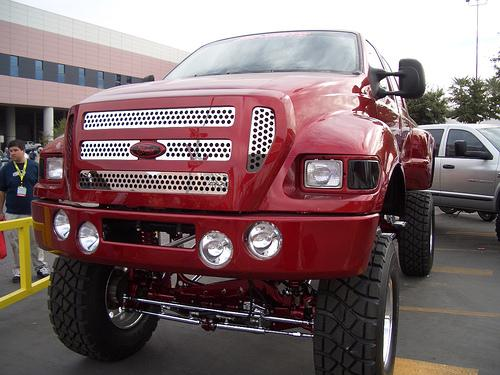truck: (31, 26, 436, 375)
